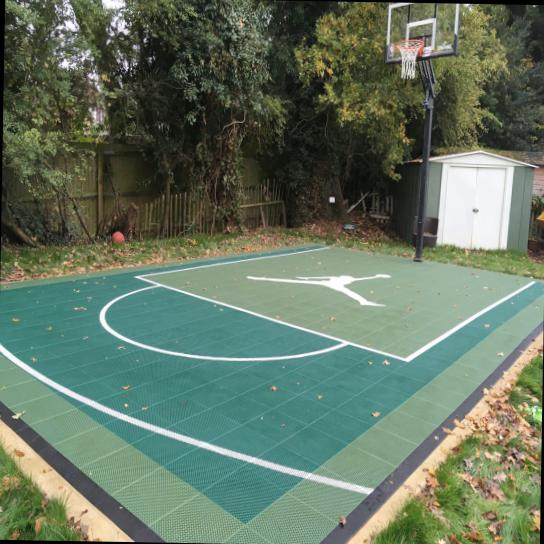basketball-hoop: (392, 38, 424, 81)
